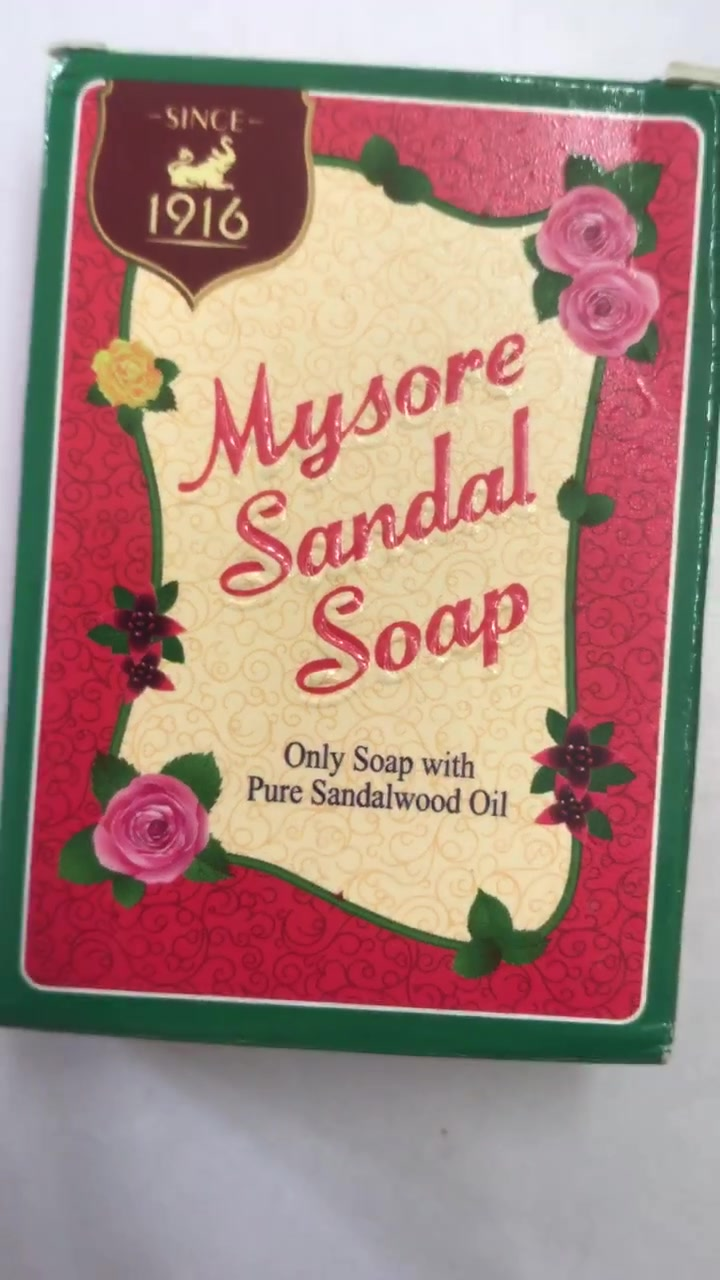mysore sandal soap: (39, 64, 694, 1059)
